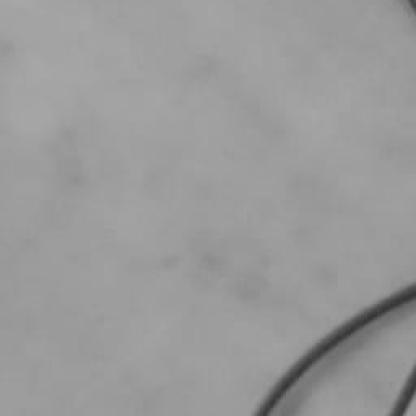wires: (254, 283, 414, 414), (389, 369, 414, 414)
